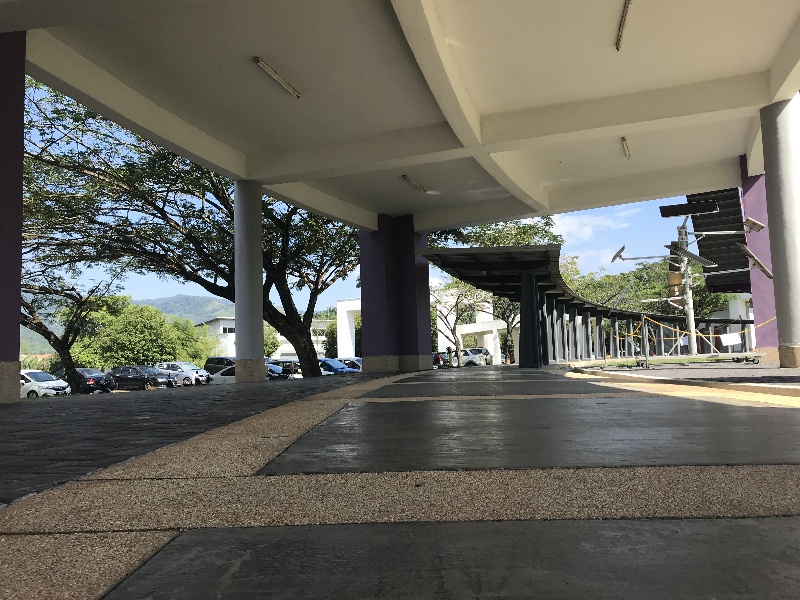Block D Pillar 4: (7, 8, 800, 523)
pillar: (354, 207, 444, 385), (745, 93, 798, 378), (228, 168, 269, 387), (505, 258, 552, 378)
